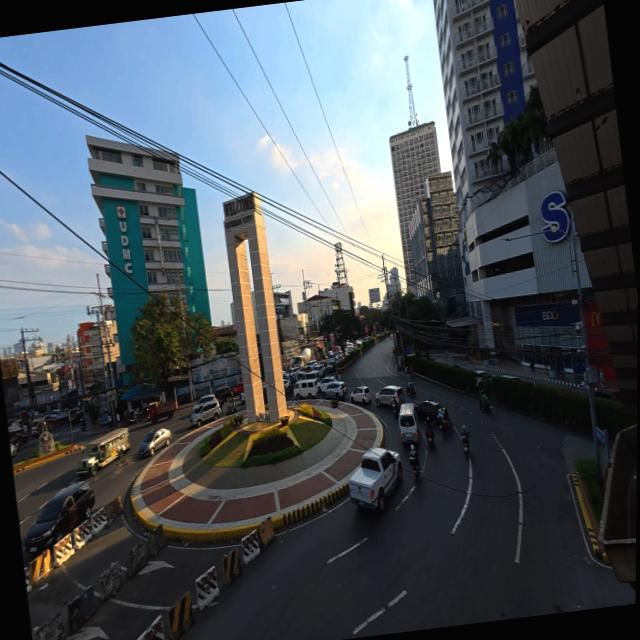Jeepneys: (77, 428, 130, 475)
car: (25, 481, 94, 553), (139, 429, 172, 457), (190, 399, 221, 427), (417, 400, 444, 423), (375, 386, 405, 406), (323, 381, 346, 399), (192, 394, 216, 411), (351, 385, 372, 404), (595, 388, 621, 401), (214, 386, 232, 404), (318, 376, 335, 393), (32, 418, 46, 435), (312, 364, 326, 378), (324, 360, 336, 374), (70, 408, 81, 422), (283, 378, 293, 393), (502, 374, 522, 381), (233, 383, 243, 396), (49, 410, 61, 418), (10, 444, 18, 456), (307, 360, 317, 369), (354, 338, 363, 348), (240, 392, 245, 403)
motorcycle: (437, 411, 454, 435), (411, 458, 421, 482), (462, 435, 470, 457), (127, 410, 139, 424), (426, 426, 434, 446), (480, 400, 492, 413), (226, 402, 237, 416), (392, 400, 399, 418), (406, 385, 416, 396), (79, 418, 86, 432)
trucks: (349, 448, 403, 512), (147, 401, 178, 423)
vans: (399, 403, 419, 444), (295, 373, 318, 398)
